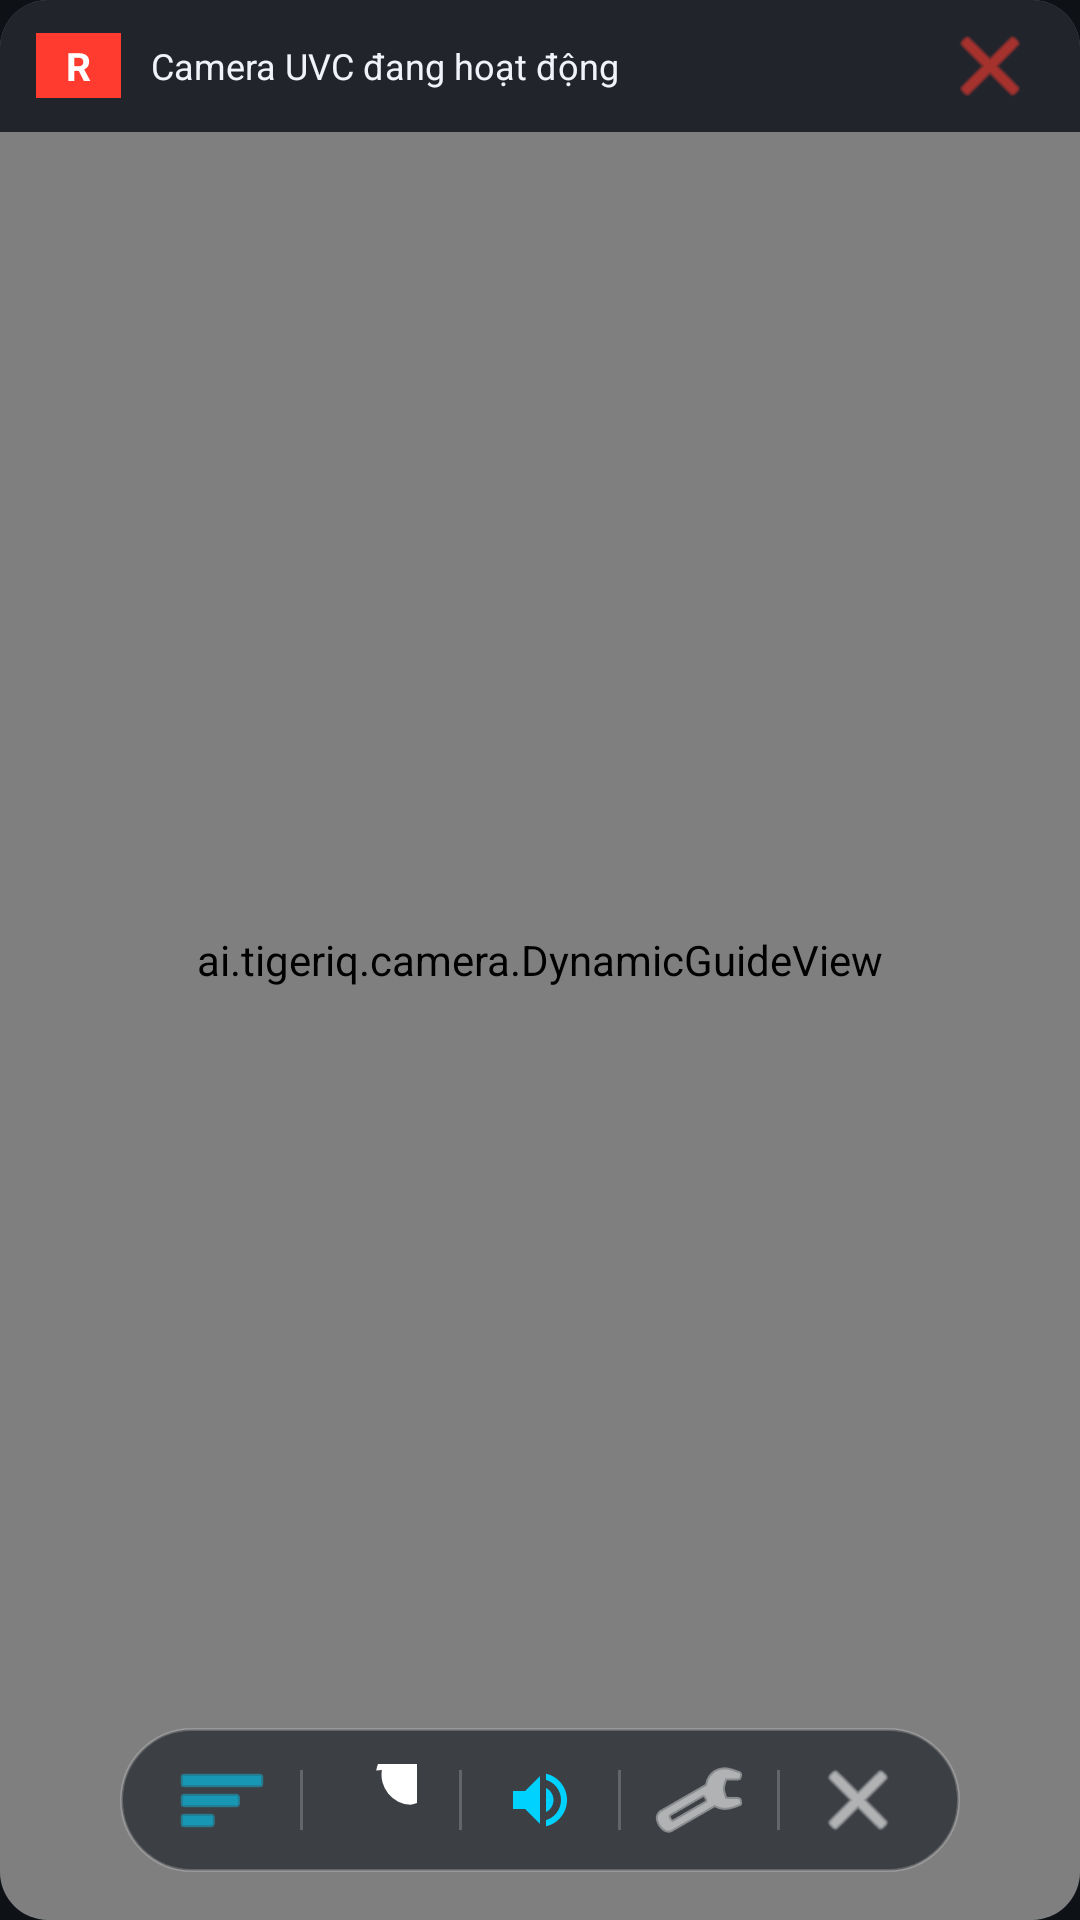

Where icons sit on this 1080px×1920px app screen, as bbox=[x1, y1, x2, y2]:
Chế độ ban đêm: bbox=[376, 1764, 417, 1805]
Cài đặt: bbox=[656, 1767, 742, 1833]
Âm thanh cảnh báo khoảng cách: bbox=[513, 1773, 567, 1827]
Đóng Camera: bbox=[828, 1770, 888, 1830]
Đóng cửa sổ: bbox=[960, 36, 1020, 96]
